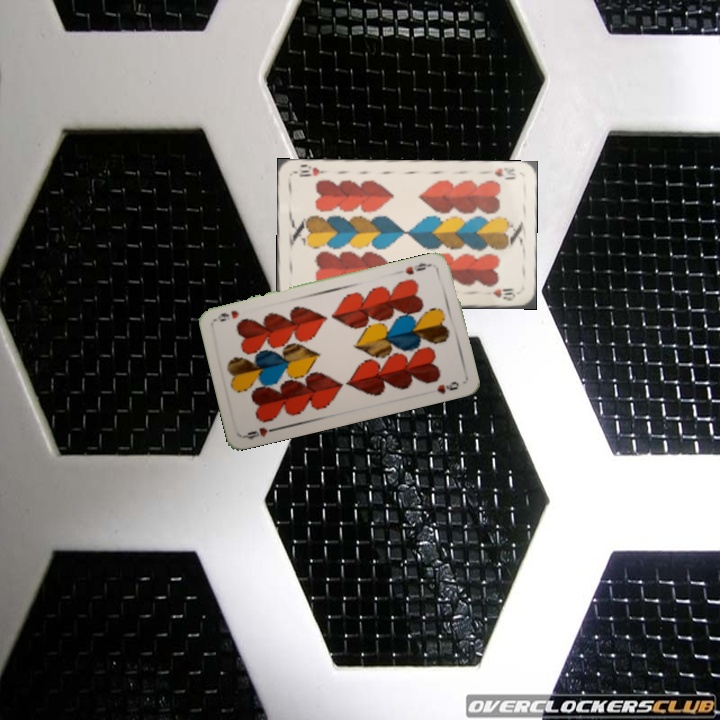H10: (490, 164, 519, 182)
H9: (241, 423, 281, 442), (401, 258, 436, 277)
